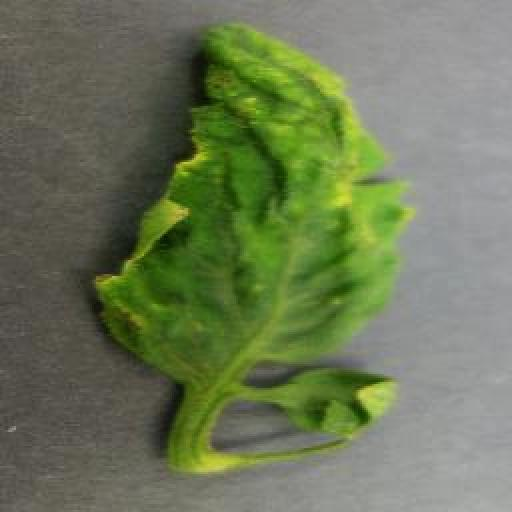disease_tomato: (92, 21, 418, 383)
